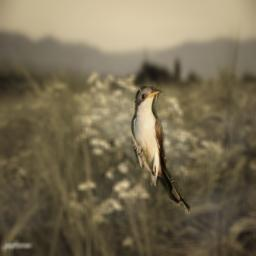Cuckoo: (131, 86, 191, 216)
